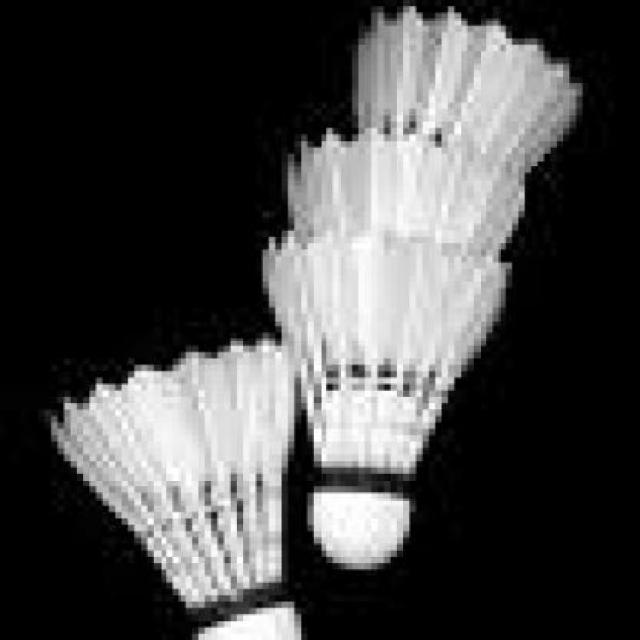Shuttlecock: (263, 230, 517, 568), (49, 340, 291, 640)
